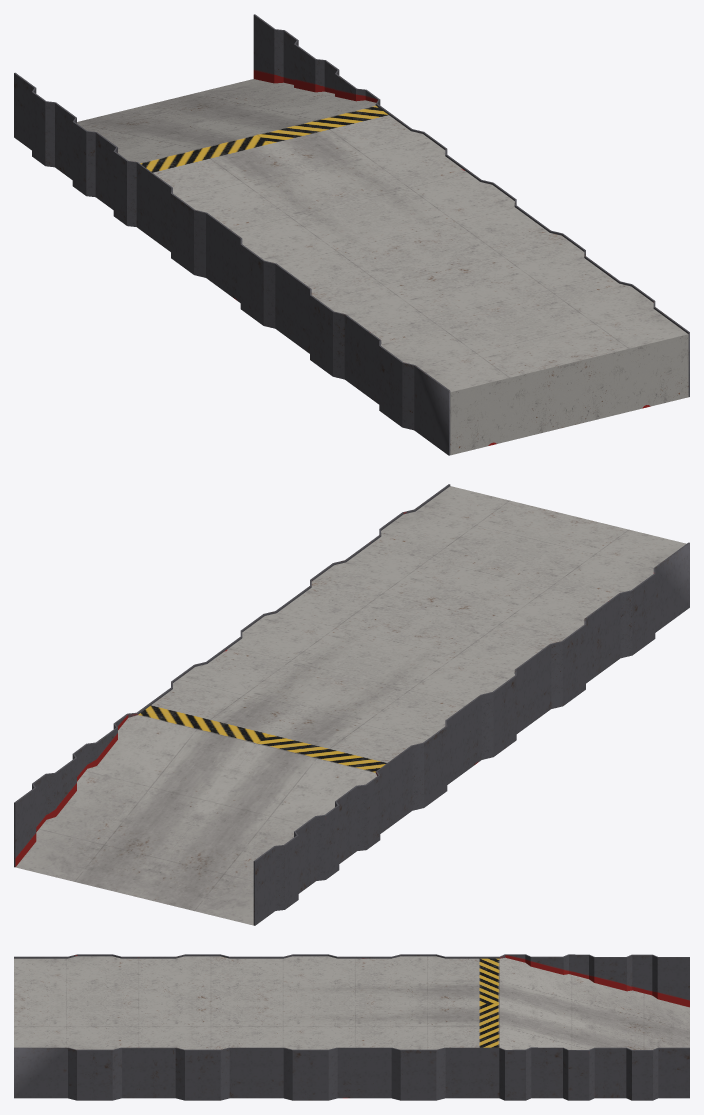
File: BaseRamp.dae
The picture shows the model from 3 angles, top to bottom: view 1: azimuth 30°, elevation 25°; view 2: azimuth 150°, elevation 25°; view 3: azimuth 270°, elevation 25°; orthographic projection. The views are drawn at different scales.
Parts seen in each view (by area): view 1: BaseRamp; view 2: BaseRamp; view 3: BaseRamp.
Boxes of the visible parts, left/top/right/bottom form: BaseRamp: left=14, top=14, right=689, bottom=455; BaseRamp: left=14, top=484, right=689, bottom=925; BaseRamp: left=14, top=954, right=689, bottom=1100.
Bounding box in the file's own units: 16.8 × 50 × 4.11.
